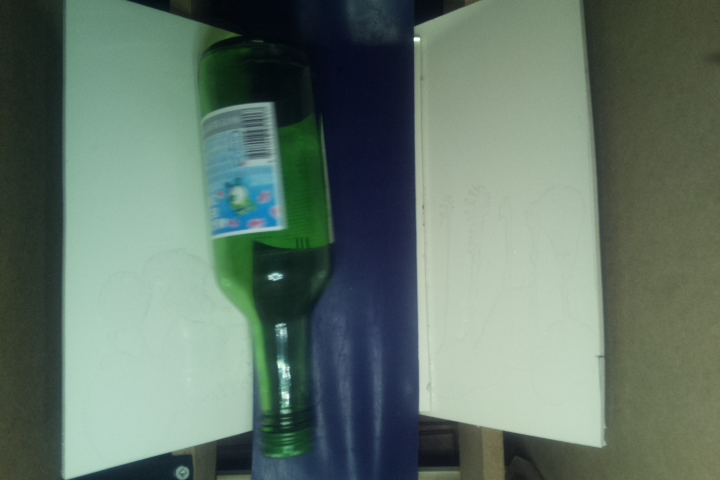soju: (200, 32, 336, 460)
